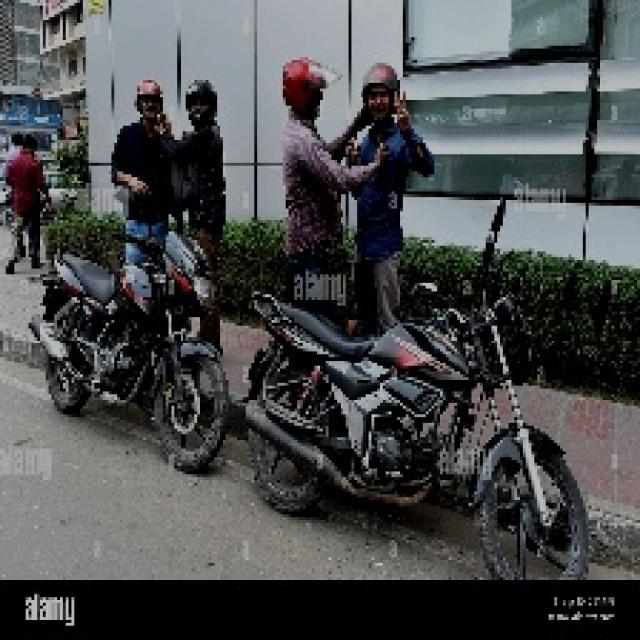bike: (238, 244, 601, 581), (38, 220, 230, 462)
